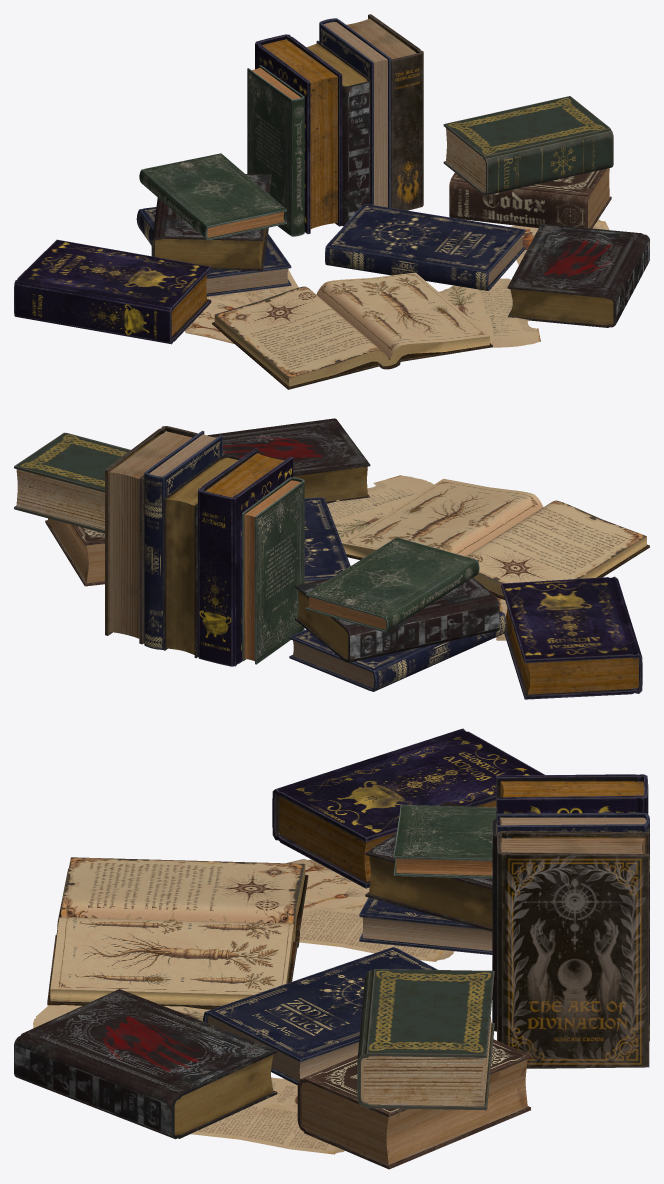
The model's file is books set.fbx.
The picture shows the model from 3 angles, top to bottom: view 1: azimuth 30°, elevation 25°; view 2: azimuth 150°, elevation 25°; view 3: azimuth 270°, elevation 25°; orthographic projection. The views are drawn at different scales.
Visible parts, largest first — view 1: openedbook, book11, book6, book8, book10, book2, book13, book1, book7, book5, book4, book12 (+5 smaller); view 2: openedbook, book11, book2, book1, book13, book5, book12, book6, book10, book3, book4, book14 (+3 smaller); view 3: book5, openedbook, book10, book11, book6, book7, book8, book13, book2, book12, book14, paper4 (+5 smaller).
Boxes of the visible parts, box(x1,y1,x2,y2) form: openedbook: box(212, 272, 492, 389); book11: box(14, 239, 211, 344); book6: box(443, 96, 613, 195); book8: box(325, 203, 525, 290); book10: box(507, 223, 649, 327); book2: box(255, 34, 342, 234); book13: box(139, 153, 286, 240); book1: box(247, 65, 304, 236); book7: box(449, 168, 611, 228); book5: box(346, 14, 423, 210); book4: box(319, 18, 390, 207); book12: box(151, 174, 271, 270); openedbook: box(342, 478, 649, 599); book11: box(501, 576, 642, 699); book2: box(198, 448, 293, 666); book1: box(242, 477, 304, 664); book13: box(305, 537, 479, 632); book5: box(105, 426, 197, 644); book12: box(295, 577, 499, 662); book6: box(14, 432, 130, 533); book10: box(207, 418, 370, 503); book3: box(163, 454, 241, 658); book4: box(144, 430, 222, 649); book14: box(289, 611, 506, 691); book5: box(497, 831, 649, 1068); openedbook: box(47, 857, 308, 1009); book10: box(14, 989, 277, 1139); book11: box(272, 728, 545, 888); book6: box(357, 969, 494, 1110); book7: box(297, 1039, 530, 1169); book8: box(203, 947, 437, 1085); book13: box(393, 804, 496, 878); book2: box(496, 774, 648, 818); book12: box(365, 801, 492, 931); book14: box(359, 897, 492, 954); paper4: box(190, 1077, 344, 1154).
Bounding box in the file's own units: 94.27 × 25.21 × 64.99.
Materials: 3 (3 with a texture image).
